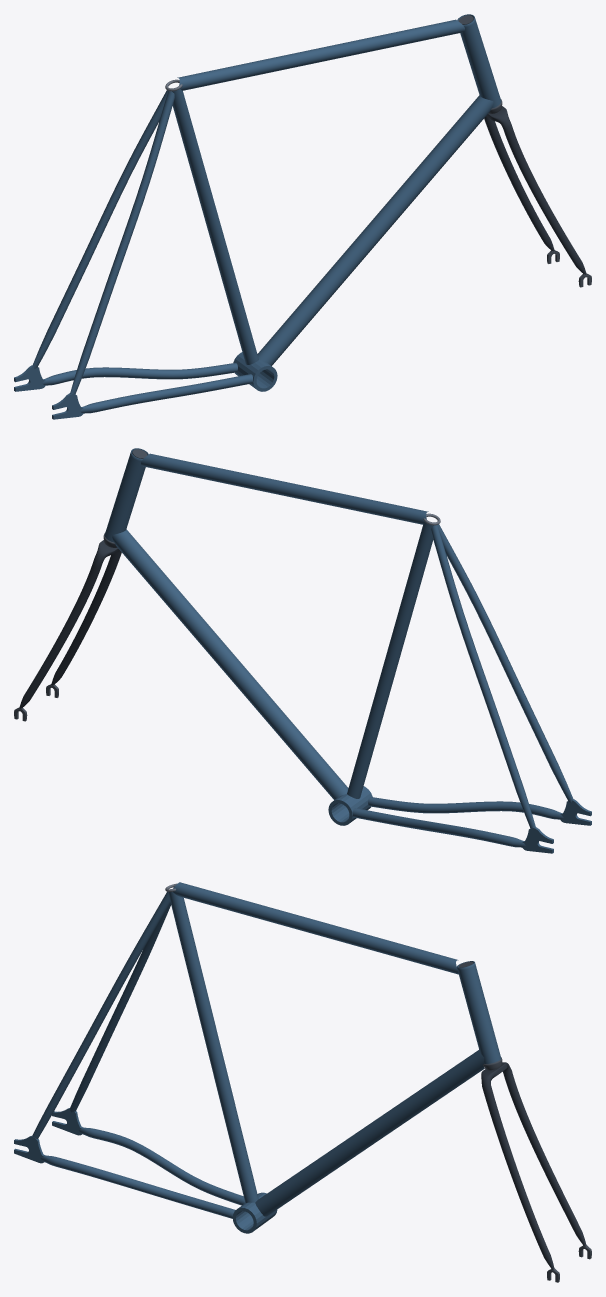
The model's file is dosnoventa-01-bcn-l.glb.
3 renders of one model, top to bottom at view 1: azimuth 30°, elevation 25°; view 2: azimuth 150°, elevation 25°; view 3: azimuth 330°, elevation 25°, orthographic.
Parts seen in each view (by area): view 1: paint_down, paint_top, paint_seat, paint_seatstay_1, paint_seatstay_-1, paint_chainstay_-1, paint_chainstay_1, paint_head, fork_blade_1, fork_blade_-1, paint_bottom_bracket, rear_dropout_1 (+1 smaller); view 2: paint_down, paint_top, paint_seat, paint_seatstay_-1, paint_seatstay_1, paint_chainstay_1, paint_chainstay_-1, paint_head, fork_blade_-1, fork_blade_1, paint_bottom_bracket, rear_dropout_-1 (+1 smaller); view 3: paint_down, paint_seat, paint_top, paint_seatstay_1, paint_chainstay_1, paint_head, paint_seatstay_-1, paint_chainstay_-1, fork_blade_1, fork_blade_-1, paint_bottom_bracket, rear_dropout_1 (+1 smaller).
Boxes of the visible parts, left/top/right/bottom form: paint_down: left=257, top=95, right=493, bottom=365; paint_top: left=177, top=19, right=464, bottom=90; paint_seat: left=172, top=89, right=258, bottom=364; paint_seatstay_1: left=70, top=91, right=174, bottom=393; paint_seatstay_-1: left=32, top=90, right=168, bottom=368; paint_chainstay_-1: left=42, top=363, right=237, bottom=385; paint_chainstay_1: left=80, top=374, right=252, bottom=413; paint_head: left=457, top=14, right=501, bottom=108; fork_blade_1: left=503, top=125, right=586, bottom=274; fork_blade_-1: left=484, top=116, right=554, bottom=251; paint_bottom_bracket: left=233, top=352, right=277, bottom=391; rear_dropout_1: left=52, top=393, right=83, bottom=419; paint_down: left=112, top=529, right=348, bottom=799; paint_top: left=141, top=453, right=428, bottom=524; paint_seat: left=347, top=523, right=433, bottom=798; paint_seatstay_-1: left=431, top=525, right=535, bottom=827; paint_seatstay_1: left=437, top=524, right=573, bottom=802; paint_chainstay_1: left=368, top=797, right=563, bottom=819; paint_chainstay_-1: left=353, top=808, right=525, bottom=847; paint_head: left=104, top=448, right=148, bottom=542; fork_blade_-1: left=19, top=559, right=102, bottom=708; fork_blade_1: left=51, top=550, right=121, bottom=685; paint_bottom_bracket: left=328, top=786, right=372, bottom=825; rear_dropout_-1: left=522, top=827, right=553, bottom=853; paint_down: left=255, top=1050, right=484, bottom=1216; paint_seat: left=168, top=892, right=258, bottom=1202; paint_top: left=173, top=882, right=458, bottom=974; paint_seatstay_1: left=32, top=892, right=170, bottom=1139; paint_chainstay_1: left=40, top=1155, right=235, bottom=1218; paint_head: left=457, top=961, right=501, bottom=1063; paint_seatstay_-1: left=70, top=902, right=170, bottom=1112; paint_chainstay_-1: left=79, top=1127, right=245, bottom=1205; fork_blade_1: left=482, top=1086, right=554, bottom=1269; fork_blade_-1: left=503, top=1070, right=586, bottom=1246; paint_bottom_bracket: left=232, top=1192, right=277, bottom=1233; rear_dropout_1: left=14, top=1136, right=44, bottom=1163.
Size of the model in its own units: 1.03 by 0.5883 by 0.144.
